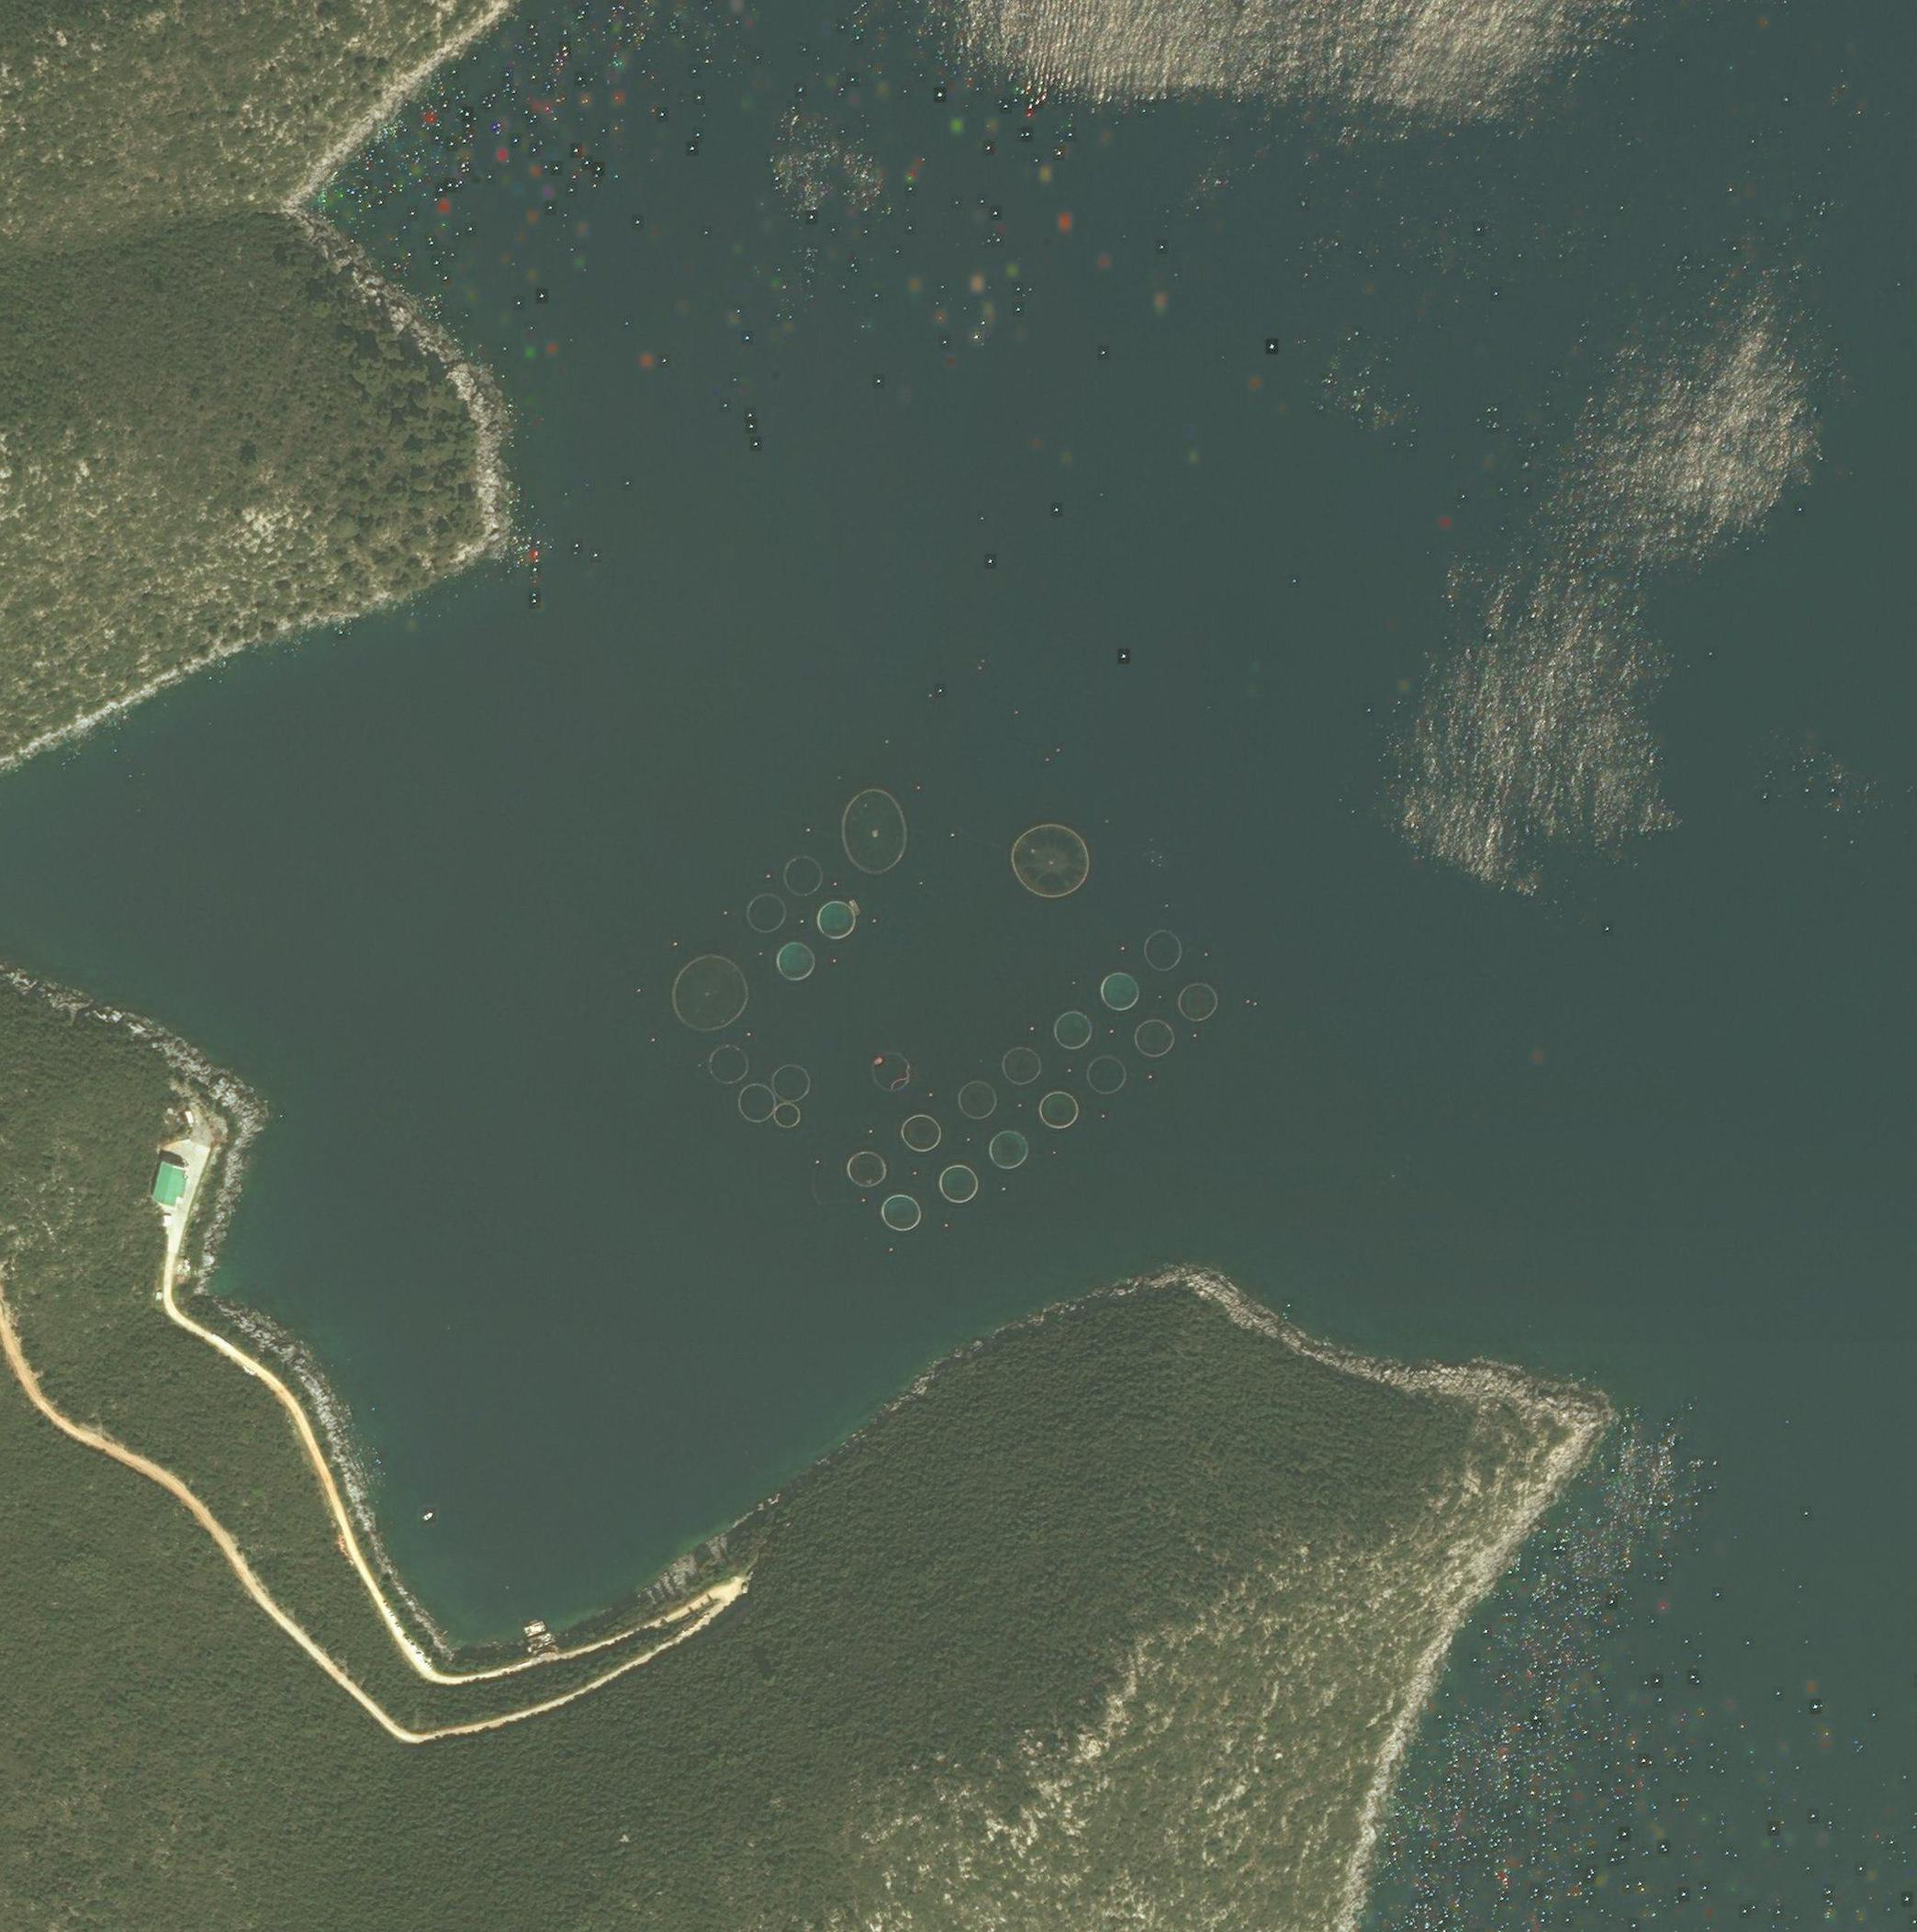c: (1008, 820, 1094, 901), (669, 950, 750, 1034), (837, 789, 911, 876), (1097, 970, 1143, 1012), (897, 1112, 944, 1152), (987, 1129, 1030, 1171), (1085, 1054, 1129, 1096), (1176, 980, 1220, 1022), (706, 1043, 750, 1085), (781, 855, 825, 898), (871, 1050, 913, 1094), (1131, 1017, 1176, 1057), (955, 1078, 997, 1121), (815, 899, 857, 941), (1052, 1008, 1094, 1050), (1143, 929, 1185, 971), (744, 892, 788, 933), (878, 1193, 922, 1233), (1037, 1091, 1080, 1131), (772, 940, 815, 980), (771, 1063, 811, 1105), (737, 1082, 778, 1124), (844, 1150, 887, 1191), (937, 1163, 980, 1203), (1001, 1045, 1041, 1085)
